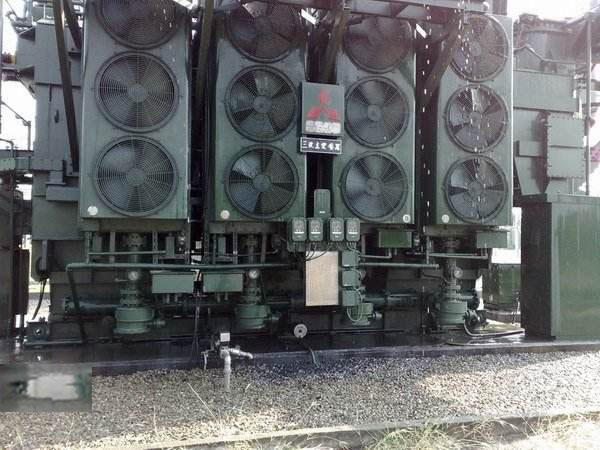oil: (4, 363, 92, 406)
